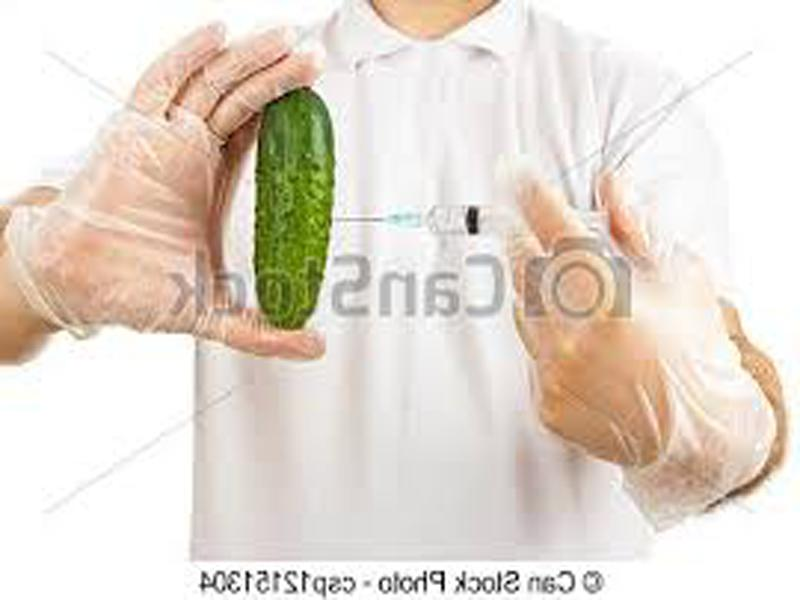Cucumber: (251, 87, 331, 334)
